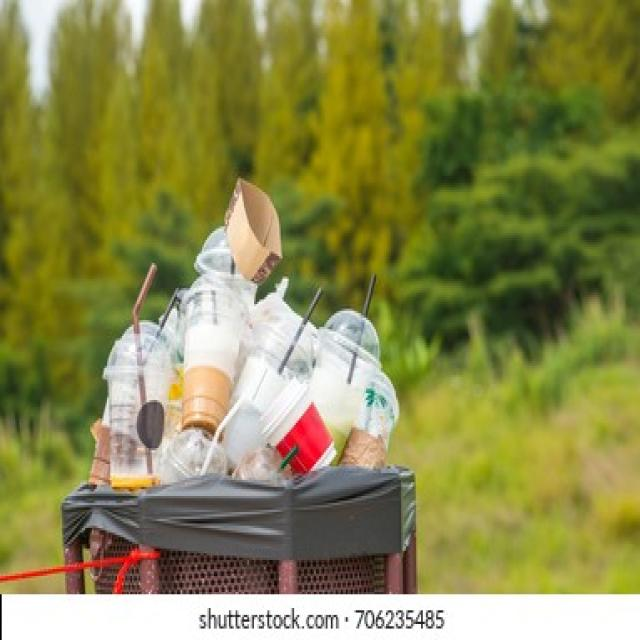cardboard: (222, 176, 284, 274)
plastic: (104, 302, 359, 484)
